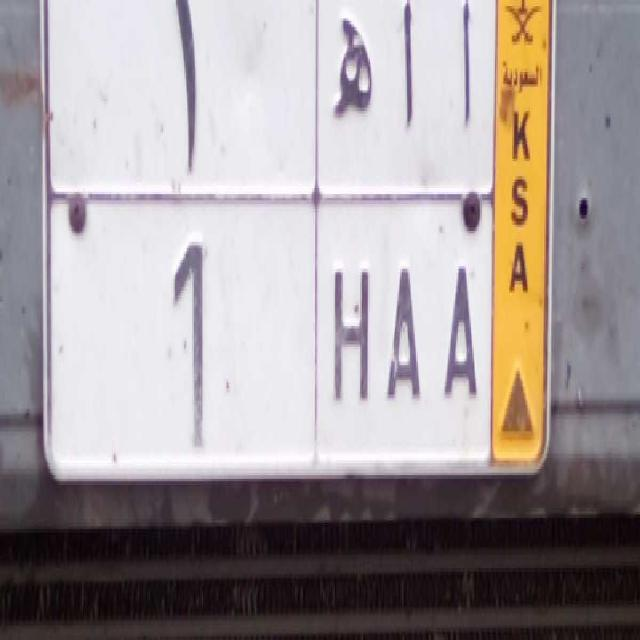license_plate: (46, 188, 493, 472)
